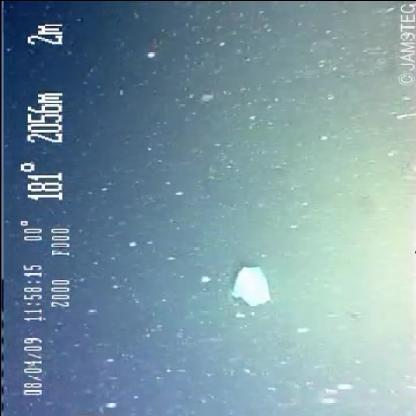Rác: (225, 258, 275, 310)
